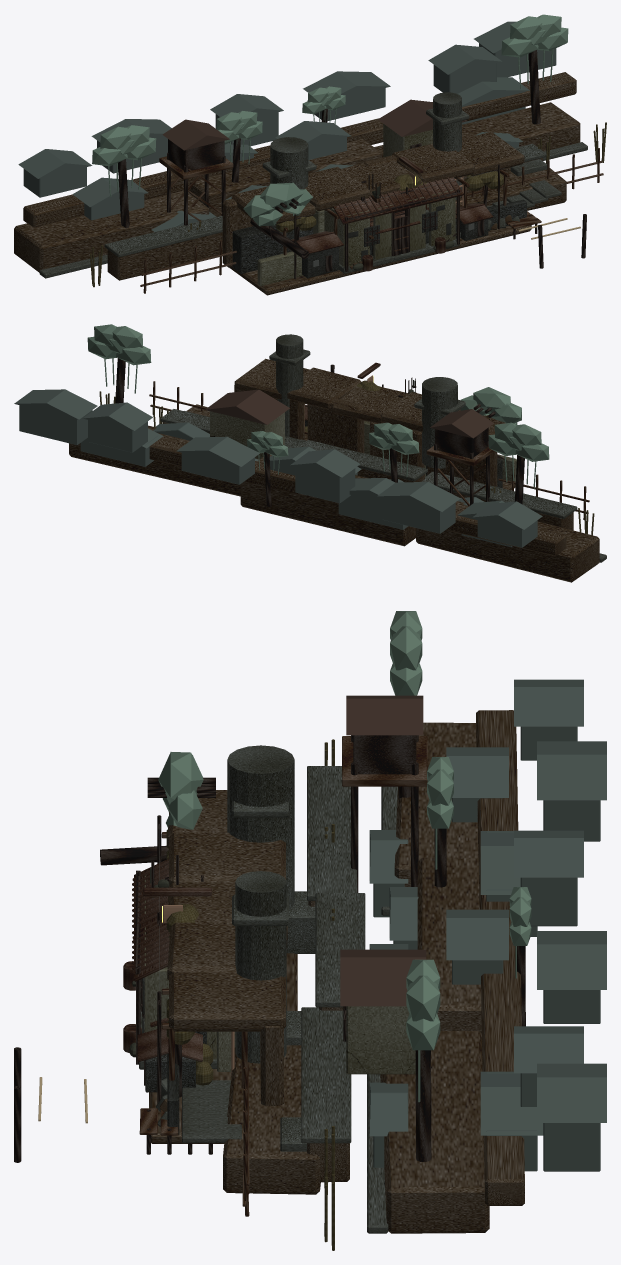
File: Model_ReedSignalEnvironmentKit.glb
3 renders of one model, top to bottom at view 1: azimuth 30°, elevation 25°; view 2: azimuth 150°, elevation 25°; view 3: azimuth 270°, elevation 25°, orthographic. The views are drawn at different scales.
Visible parts, largest first — view 1: Model_FerryRiverbankVista_DriedEarth, Model_FerryRiverbankVista_DistantSilhouette, Model_TunnelShaftVista_DriedEarth, Model_FerryRiverbankVista_WetFoliage, Model_BlockadeVista_DistantSilhouette, Model_TunnelShaftVista_FieldStone, SchoolFacade_Merged_03, Model_BlockadeVista_RawWood, Model_BlockadeVista_FieldStone, SchoolFacade_Merged_06, Model_BlockadeVista_ClayRoof, Model_BlockadeVista_DriedEarth (+18 smaller); view 2: Model_FerryRiverbankVista_DistantSilhouette, Model_FerryRiverbankVista_DriedEarth, Model_TunnelShaftVista_DriedEarth, Model_FerryRiverbankVista_WetFoliage, Model_TunnelShaftVista_FieldStone, Model_BlockadeVista_DistantSilhouette, Model_BlockadeVista_FieldStone, Model_BlockadeVista_ClayRoof, Model_BlockadeVista_RawWood, Model_BlockadeVista_DarkWood, Model_BlockadeVista_PlasterAged, Model_FerryRiverbankVista_DarkWood (+5 smaller); view 3: Model_FerryRiverbankVista_DriedEarth, Model_FerryRiverbankVista_DistantSilhouette, Model_TunnelShaftVista_DriedEarth, Model_BlockadeVista_FieldStone, Model_BlockadeVista_DistantSilhouette, Model_TunnelShaftVista_FieldStone, Model_FerryRiverbankVista_WetFoliage, Model_BlockadeVista_ClayRoof, Model_SchoolCourtyardVista_DistantSilhouette, Model_FerryRiverbankVista_FieldStone, Model_BlockadeVista_PlasterAged, Model_FerryRiverbankVista_DarkWood (+13 smaller).
Boxes of the visible parts, x1,y1,x2,y2 form: Model_FerryRiverbankVista_DriedEarth: (14, 72, 580, 272); Model_FerryRiverbankVista_DistantSilhouette: (18, 21, 556, 197); Model_TunnelShaftVista_DriedEarth: (222, 132, 531, 295); Model_FerryRiverbankVista_WetFoliage: (92, 14, 568, 196); Model_BlockadeVista_DistantSilhouette: (72, 77, 529, 220); Model_TunnelShaftVista_FieldStone: (262, 92, 469, 232); SchoolFacade_Merged_03: (324, 190, 455, 266); Model_BlockadeVista_RawWood: (140, 148, 603, 293); Model_BlockadeVista_FieldStone: (104, 143, 547, 257); SchoolFacade_Merged_06: (333, 177, 463, 271); Model_BlockadeVista_ClayRoof: (162, 99, 466, 150); Model_BlockadeVista_DriedEarth: (107, 158, 542, 280); Model_FerryRiverbankVista_DistantSilhouette: (14, 389, 542, 547); Model_FerryRiverbankVista_DriedEarth: (69, 404, 599, 582); Model_TunnelShaftVista_DriedEarth: (234, 358, 515, 490); Model_FerryRiverbankVista_WetFoliage: (87, 324, 549, 488); Model_TunnelShaftVista_FieldStone: (269, 334, 465, 468); Model_BlockadeVista_DistantSilhouette: (80, 428, 512, 547); Model_BlockadeVista_FieldStone: (160, 409, 577, 518); Model_BlockadeVista_ClayRoof: (205, 389, 493, 438); Model_BlockadeVista_RawWood: (149, 381, 589, 520); Model_BlockadeVista_DarkWood: (434, 427, 489, 505); Model_BlockadeVista_PlasterAged: (210, 411, 284, 459); Model_FerryRiverbankVista_DarkWood: (115, 358, 524, 506); Model_FerryRiverbankVista_DriedEarth: (223, 710, 524, 1233); Model_FerryRiverbankVista_DistantSilhouette: (514, 679, 606, 1171); Model_TunnelShaftVista_DriedEarth: (149, 790, 297, 1143); Model_BlockadeVista_FieldStone: (280, 766, 365, 1151); Model_BlockadeVista_DistantSilhouette: (446, 747, 543, 1171); Model_TunnelShaftVista_FieldStone: (227, 745, 294, 1063); Model_FerryRiverbankVista_WetFoliage: (390, 611, 531, 1102); Model_BlockadeVista_ClayRoof: (340, 695, 426, 1006); Model_SchoolCourtyardVista_DistantSilhouette: (369, 830, 418, 1167); Model_FerryRiverbankVista_FieldStone: (182, 786, 397, 1233); Model_BlockadeVista_PlasterAged: (346, 1006, 415, 1074); Model_FerryRiverbankVista_DarkWood: (14, 786, 525, 1162).
Bounding box in the file's own units: 40.13 × 9.8 × 20.75.
15 materials, 9 textured.
